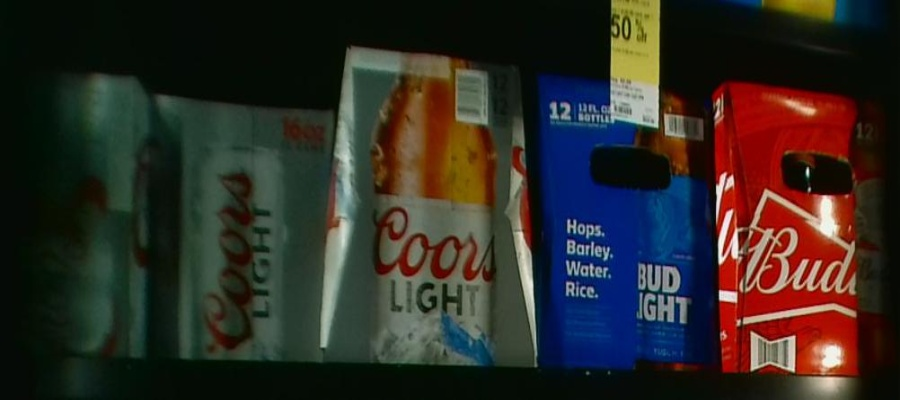bottle: (323, 39, 534, 360), (540, 73, 717, 373), (715, 82, 891, 378), (159, 88, 320, 357), (12, 77, 150, 364)
